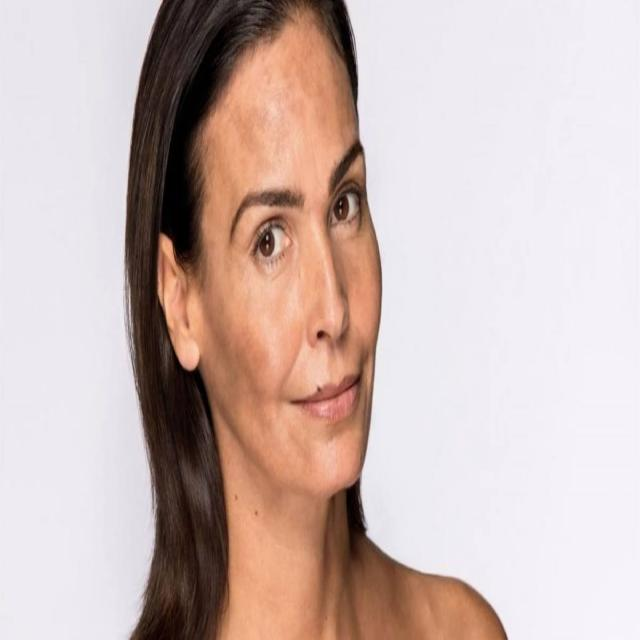Dark-Spots: (193, 48, 362, 148), (221, 243, 273, 452)
